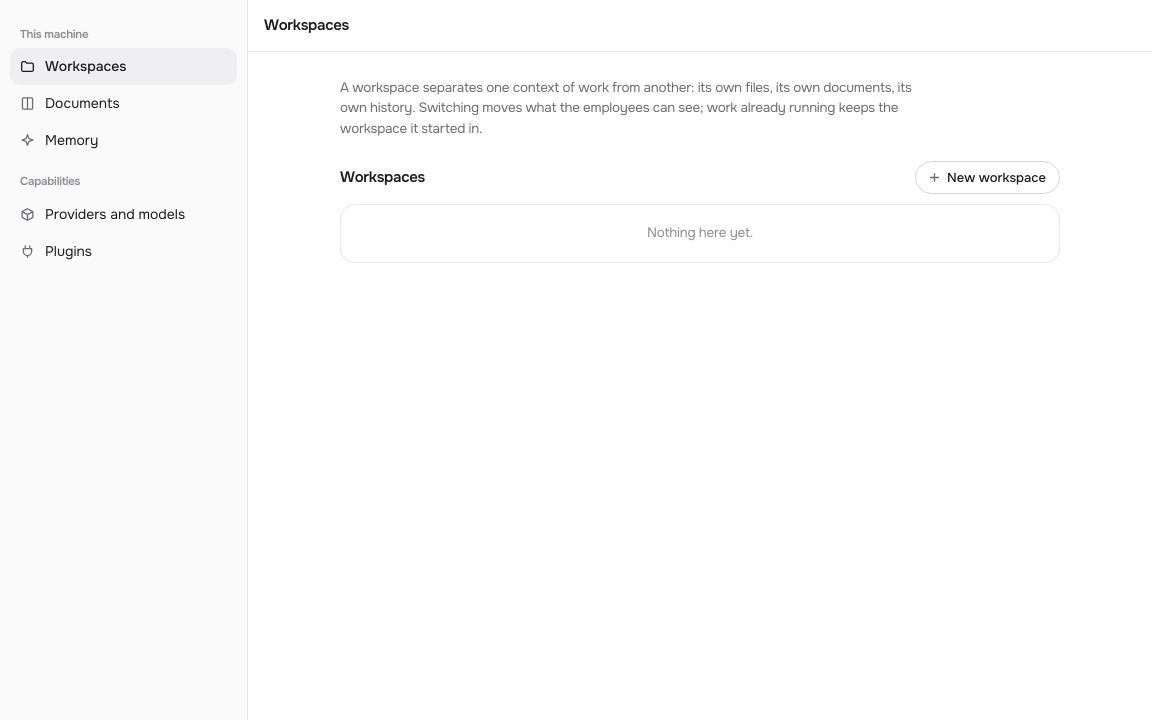
Scenario: Settings → Plugins → Built in › shows what the machine can do and who is allowed to ask for it
Step 1. Click the button "Plugins" → [124, 251], box [10,232,237,270]
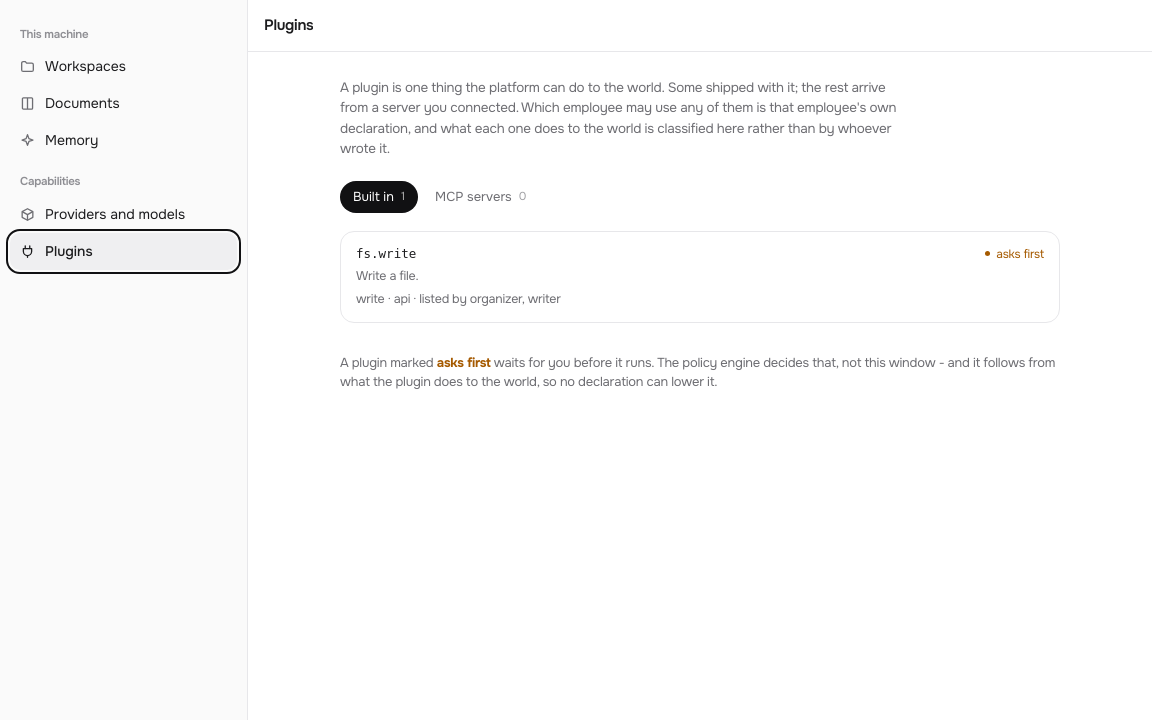
Expected: the text "write · api · listed by organizer, writer" is shown, [356,291,561,307]
